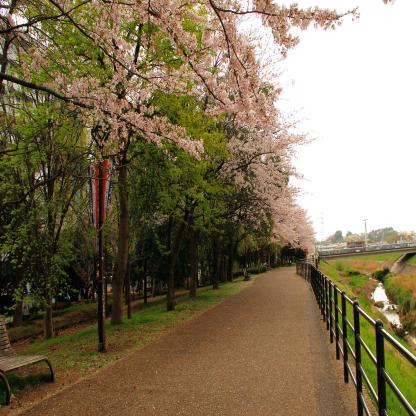Someiyoshino: (67, 3, 367, 248)
